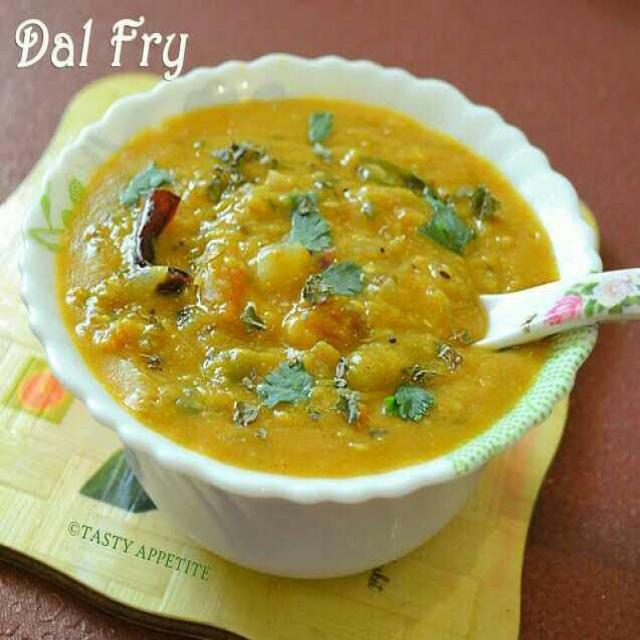dal: (79, 28, 584, 494)
